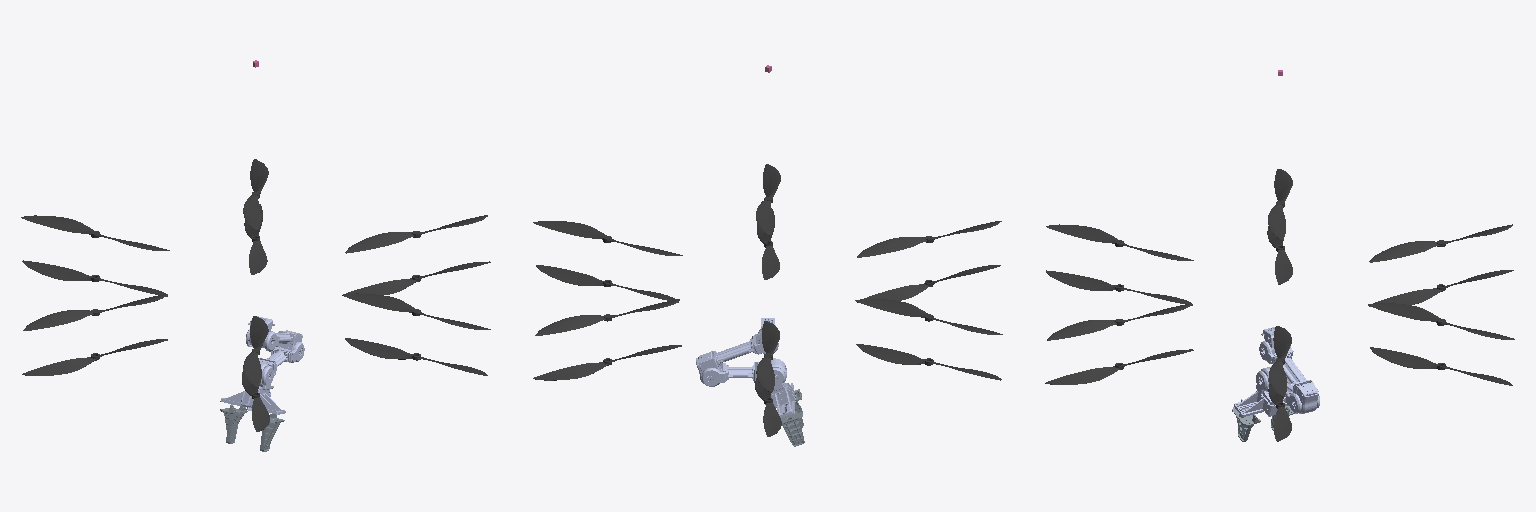
robot.urdf — simulator:
<?xml version="1.0"?>
<!-- This URDF was automatically created by SolidWorks to URDF Exporter! Originally created by [author] ([email redacted]) 
     Commit Version: 1.6.0-4-g7f85cfe  Build Version: 1.6.7995.38578
     For more information, please see http://wiki.ros.org/sw_urdf_exporter -->
<robot name="simulator">

  <link name="world"/>
  
  <joint name="virtual_joint" type="fixed">
    <child link="base_link"/>
    <parent link="world"/>
  </joint>

  <link
    name="base_link">
    <inertial>
      <origin
        xyz="-0.00110306076075581 -1.75841246845748E-05 -3.96711644723413E-06"
        rpy="0 0 0" />
      <mass
        value="4.68848447603709" />
      <inertia
        ixx="0.430475145644522"
        ixy="-1.79316182511057E-05"
        ixz="-1.23322016653127E-06"
        iyy="0.430587050486874"
        iyz="4.52382428687083E-07"
        izz="0.592651276900184" />
    </inertial>
    <visual>
      <origin
        xyz="0 0 0"
        rpy="0 0 0" />
      <geometry>
        <mesh
          filename="package://simulator/meshes/base_link.STL" />
      </geometry>
      <material
        name="">
        <color
          rgba="0.752941176470588 0.752941176470588 0.752941176470588 1" />
      </material>
    </visual>
    <collision>
      <origin
        xyz="0 0 0"
        rpy="0 0 0" />
      <geometry>
        <mesh
          filename="package://simulator/meshes/base_link.STL" />
      </geometry>
    </collision>
  </link>
  <link
    name="prop_1_link">
    <inertial>
      <origin
        xyz="2.47996068125644E-13 3.41268162852742E-08 2.2877255645426E-12"
        rpy="0 0 0" />
      <mass
        value="0.0279209337587258" />
      <inertia
        ixx="0.000201162215959647"
        ixy="-1.5059378448931E-17"
        ixz="-3.5479401191167E-05"
        iyy="0.000209948517866518"
        iyz="-9.30869790117904E-17"
        izz="9.10135660869097E-06" />
    </inertial>
    <visual>
      <origin
        xyz="0 0 0"
        rpy="0 0 0" />
      <geometry>
        <mesh
          filename="package://simulator/meshes/prop_1_link.STL" />
      </geometry>
      <material
        name="">
        <color
          rgba="0.294117647058824 0.294117647058824 0.294117647058824 1" />
      </material>
    </visual>
    <collision>
      <origin
        xyz="0 0 0"
        rpy="0 0 0" />
      <geometry>
        <mesh
          filename="package://simulator/meshes/prop_1_link.STL" />
      </geometry>
    </collision>
  </link>
  <joint
    name="prop_1_joint"
    type="continuous">
    <origin
      xyz="0.181350000000243 -0.314107413952491 0"
      rpy="1.5707963267949 0 -2.80424202552252" />
    <parent
      link="base_link" />
    <child
      link="prop_1_link" />
    <axis
      xyz="0 1 0" />
    <limit
      lower="0"
      upper="0"
      effort="0"
      velocity="0" />
  </joint>
  <link
    name="prop_2_link">
    <inertial>
      <origin
        xyz="-4.91190421669785E-13 -8.46650185456313E-13 -1.36557432028894E-12"
        rpy="0 0 0" />
      <mass
        value="0.0279204568460125" />
      <inertia
        ixx="0.000202041619412603"
        ixy="-1.6765922883602E-17"
        ixz="-3.37223454388012E-05"
        iyy="0.000209943475946723"
        iyz="-7.27420925847124E-17"
        izz="8.21690270950501E-06" />
    </inertial>
    <visual>
      <origin
        xyz="0 0 0"
        rpy="0 0 0" />
      <geometry>
        <mesh
          filename="package://simulator/meshes/prop_2_link.STL" />
      </geometry>
      <material
        name="">
        <color
          rgba="0.294117647058824 0.294117647058824 0.294117647058824 1" />
      </material>
    </visual>
    <collision>
      <origin
        xyz="0 0 0"
        rpy="0 0 0" />
      <geometry>
        <mesh
          filename="package://simulator/meshes/prop_2_link.STL" />
      </geometry>
    </collision>
  </link>
  <joint
    name="prop_2_joint"
    type="continuous">
    <origin
      xyz="0.362700000000011 0 0"
      rpy="1.5707963267949 0 -1.73577621414184" />
    <parent
      link="base_link" />
    <child
      link="prop_2_link" />
    <axis
      xyz="0 1 0" />
    <limit
      lower="0"
      upper="0"
      effort="0"
      velocity="0" />
  </joint>
  <link
    name="prop_3_link">
    <inertial>
      <origin
        xyz="-2.52770027131533E-13 -3.26235502648694E-08 -3.15525383598469E-13"
        rpy="0 0 0" />
      <mass
        value="0.0279209345793859" />
      <inertia
        ixx="0.000201383717068649"
        ixy="1.22165744202057E-17"
        ixz="-3.5054722379838E-05"
        iyy="0.000209948517974453"
        iyz="1.02203769018779E-17"
        izz="8.87985560643182E-06" />
    </inertial>
    <visual>
      <origin
        xyz="0 0 0"
        rpy="0 0 0" />
      <geometry>
        <mesh
          filename="package://simulator/meshes/prop_3_link.STL" />
      </geometry>
      <material
        name="">
        <color
          rgba="0.294117647058824 0.294117647058824 0.294117647058824 1" />
      </material>
    </visual>
    <collision>
      <origin
        xyz="0 0 0"
        rpy="0 0 0" />
      <geometry>
        <mesh
          filename="package://simulator/meshes/prop_3_link.STL" />
      </geometry>
    </collision>
  </link>
  <joint
    name="Prop_3_joint"
    type="continuous">
    <origin
      xyz="0.181349999999764 0.314107413952759 0"
      rpy="1.5707963267949 0 2.42964177354604" />
    <parent
      link="base_link" />
    <child
      link="prop_3_link" />
    <axis
      xyz="0 1 0" />
    <limit
      lower="0"
      upper="0"
      effort="0"
      velocity="0" />
  </joint>
  <link
    name="prop_4_link">
    <inertial>
      <origin
        xyz="1.983690989249E-13 3.26215846655616E-08 1.82182047225865E-12"
        rpy="0 0 0" />
      <mass
        value="0.0279209345803512" />
      <inertia
        ixx="0.000200179018418646"
        ixy="6.52149189229152E-17"
        ixz="-3.72576312509752E-05"
        iyy="0.000209948517984384"
        iyz="5.22243367121589E-17"
        izz="1.00845542663739E-05" />
    </inertial>
    <visual>
      <origin
        xyz="0 0 0"
        rpy="0 0 0" />
      <geometry>
        <mesh
          filename="package://simulator/meshes/prop_4_link.STL" />
      </geometry>
      <material
        name="">
        <color
          rgba="0.294117647058824 0.294117647058824 0.294117647058824 1" />
      </material>
    </visual>
    <collision>
      <origin
        xyz="0 0 0"
        rpy="0 0 0" />
      <geometry>
        <mesh
          filename="package://simulator/meshes/prop_4_link.STL" />
      </geometry>
    </collision>
  </link>
  <joint
    name="prop_4_joint"
    type="continuous">
    <origin
      xyz="-0.181350000000244 0.314107413952479 0"
      rpy="1.5707963267949 0 -2.78817405638384" />
    <parent
      link="base_link" />
    <child
      link="prop_4_link" />
    <axis
      xyz="0 1 0" />
    <limit
      lower="0"
      upper="0"
      effort="0"
      velocity="0" />
  </joint>
  <link
    name="prop_5_link">
    <inertial>
      <origin
        xyz="3.66928709638614E-14 -1.88129293038066E-08 -5.06594766136459E-13"
        rpy="0 0 0" />
      <mass
        value="0.0279204664551623" />
      <inertia
        ixx="0.00020003244164034"
        ixy="3.92299042138082E-18"
        ixz="-3.75010706246379E-05"
        iyy="0.000209943793870452"
        iyz="7.48241521753871E-18"
        izz="1.02263984417856E-05" />
    </inertial>
    <visual>
      <origin
        xyz="0 0 0"
        rpy="0 0 0" />
      <geometry>
        <mesh
          filename="package://simulator/meshes/prop_5_link.STL" />
      </geometry>
      <material
        name="">
        <color
          rgba="0.294117647058824 0.294117647058824 0.294117647058824 1" />
      </material>
    </visual>
    <collision>
      <origin
        xyz="0 0 0"
        rpy="0 0 0" />
      <geometry>
        <mesh
          filename="package://simulator/meshes/prop_5_link.STL" />
      </geometry>
    </collision>
  </link>
  <joint
    name="prop_5_joint"
    type="continuous">
    <origin
      xyz="-0.362699999999998 0 0"
      rpy="1.5707963267949 0 1.38857142747957" />
    <parent
      link="base_link" />
    <child
      link="prop_5_link" />
    <axis
      xyz="0 1 0" />
    <limit
      lower="0"
      upper="0"
      effort="0"
      velocity="0" />
  </joint>
  <link
    name="prop_6_link">
    <inertial>
      <origin
        xyz="-1.40915057400548E-13 -1.45340183492525E-08 -2.6326163471424E-12"
        rpy="0 0 0" />
      <mass
        value="0.0279209237247354" />
      <inertia
        ixx="0.000198410642206663"
        ixy="-1.25767832104697E-17"
        ixz="-4.00962993381281E-05"
        iyy="0.00020994856295244"
        iyz="6.36819861126385E-17"
        izz="1.18529751758187E-05" />
    </inertial>
    <visual>
      <origin
        xyz="0 0 0"
        rpy="0 0 0" />
      <geometry>
        <mesh
          filename="package://simulator/meshes/prop_6_link.STL" />
      </geometry>
      <material
        name="">
        <color
          rgba="0.294117647058824 0.294117647058824 0.294117647058824 1" />
      </material>
    </visual>
    <collision>
      <origin
        xyz="0 0 0"
        rpy="0 0 0" />
      <geometry>
        <mesh
          filename="package://simulator/meshes/prop_6_link.STL" />
      </geometry>
    </collision>
  </link>
  <joint
    name="prop_6_joint"
    type="continuous">
    <origin
      xyz="-0.181349999999753 -0.314107413952772 0"
      rpy="1.5707963267949 0 2.43358089892909" />
    <parent
      link="base_link" />
    <child
      link="prop_6_link" />
    <axis
      xyz="0 1 0" />
  </joint>
  <link
    name="arm_1_link">
    <inertial>
      <origin
        xyz="-0.000277779744851368 -0.0258931805795906 -0.000458833266730171"
        rpy="0 0 0" />
      <mass
        value="0.0466133022968278" />
      <inertia
        ixx="1.20039983846615E-05"
        ixy="1.03121576615339E-08"
        ixz="-8.26981177401855E-07"
        iyy="7.48803299231645E-06"
        iyz="1.70344296308232E-08"
        izz="1.1138650620346E-05" />
    </inertial>
    <visual>
      <origin
        xyz="0 0 0"
        rpy="0 0 0" />
      <geometry>
        <mesh
          filename="package://simulator/meshes/arm_1_link.STL" />
      </geometry>
      <material
        name="">
        <color
          rgba="0.792156862745098 0.819607843137255 0.933333333333333 1" />
      </material>
    </visual>
    <collision>
      <origin
        xyz="0 0 0"
        rpy="0 0 0" />
      <geometry>
        <mesh
          filename="package://simulator/meshes/arm_1_link.STL" />
      </geometry>
    </collision>
  </link>
  <joint
    name="arm_1_joint"
    type="revolute">
    <origin
      xyz="0.00640042621662216 -0.0101611186614582 -0.05270000000001"
      rpy="1.5707963267949 0 0" />
    <parent
      link="base_link" />
    <child
      link="arm_1_link" />
    <axis
      xyz="0 1 0" />
    <limit
      lower="0"
      upper="0"
      effort="0"
      velocity="0" />
  </joint>
  <link
    name="arm_2_link">
    <inertial>
      <origin
        xyz="0.0872965795343047 0.0258178427950186 -0.0443985785254201"
        rpy="0 0 0" />
      <mass
        value="0.0881360535329319" />
      <inertia
        ixx="2.03889559871351E-05"
        ixy="1.08647089358152E-08"
        ixz="1.61399453784491E-07"
        iyy="2.8038688798677E-05"
        iyz="1.02875642093698E-08"
        izz="2.41553284315105E-05" />
    </inertial>
    <visual>
      <origin
        xyz="0 0 0"
        rpy="0 0 0" />
      <geometry>
        <mesh
          filename="package://simulator/meshes/arm_2_link.STL" />
      </geometry>
      <material
        name="">
        <color
          rgba="0.792156862745098 0.819607843137255 0.933333333333333 1" />
      </material>
    </visual>
    <collision>
      <origin
        xyz="0 0 0"
        rpy="0 0 0" />
      <geometry>
        <mesh
          filename="package://simulator/meshes/arm_2_link.STL" />
      </geometry>
    </collision>
  </link>
  <joint
    name="arm_2_joint"
    type="revolute">
    <origin
      xyz="0.013206 -0.0388 0.021814"
      rpy="-1.5708 0.54438 0" />
    <parent
      link="arm_1_link" />
    <child
      link="arm_2_link" />
    <axis
      xyz="0 -1 0" />
    <limit
      lower="0"
      upper="0"
      effort="0"
      velocity="0" />
  </joint>
  <link
    name="arm_3_link">
    <inertial>
      <origin
        xyz="-0.0884957691467715 0.0251944702774581 0.00109148122244698"
        rpy="0 0 0" />
      <mass
        value="0.0841267673801512" />
      <inertia
        ixx="1.54134634493973E-05"
        ixy="1.51426288997905E-08"
        ixz="-6.99845650487514E-07"
        iyy="2.30716087505895E-05"
        iyz="-3.87887886135734E-09"
        izz="2.37159974327882E-05" />
    </inertial>
    <visual>
      <origin
        xyz="0 0 0"
        rpy="0 0 0" />
      <geometry>
        <mesh
          filename="package://simulator/meshes/arm_3_link.STL" />
      </geometry>
      <material
        name="">
        <color
          rgba="0.792156862745098 0.819607843137255 0.933333333333333 1" />
      </material>
    </visual>
    <collision>
      <origin
        xyz="0 0 0"
        rpy="0 0 0" />
      <geometry>
        <mesh
          filename="package://simulator/meshes/arm_3_link.STL" />
      </geometry>
    </collision>
  </link>
  <joint
    name="arm_3_joint"
    type="revolute">
    <origin
      xyz="0.11089 0.051 -0.068288"
      rpy="-3.1416 0 0" />
    <parent
      link="arm_2_link" />
    <child
      link="arm_3_link" />
    <axis
      xyz="0 -1 0" />
    <limit
      lower="0"
      upper="0"
      effort="0"
      velocity="0" />
  </joint>
  <link
    name="arm_4_link">
    <inertial>
      <origin
        xyz="-0.007441 0.025511 0.045081"
        rpy="0 0 0" />
      <mass
        value="0.093795" />
      <inertia
        ixx="2.2174E-05"
        ixy="-5.361E-08"
        ixz="-2.6295E-06"
        iyy="2.6687E-05"
        iyz="-1.5961E-08"
        izz="3.1188E-05" />
    </inertial>
    <visual>
      <origin
        xyz="0 0 0"
        rpy="0 0 0" />
      <geometry>
        <mesh
          filename="package://simulator/meshes/arm_4_link.STL" />
      </geometry>
      <material
        name="">
        <color
          rgba="0.79216 0.81961 0.93333 1" />
      </material>
    </visual>
    <collision>
      <origin
        xyz="0 0 0"
        rpy="0 0 0" />
      <geometry>
        <mesh
          filename="package://simulator/meshes/arm_4_link.STL" />
      </geometry>
    </collision>
  </link>
  <joint
    name="arm_4_joint"
    type="revolute">
    <origin
      xyz="-0.124 0 0.0010588"
      rpy="0 0 0" />
    <parent
      link="arm_3_link" />
    <child
      link="arm_4_link" />
    <axis
      xyz="0 -1 0" />
    <limit
      lower="0"
      upper="0"
      effort="0"
      velocity="0" />
  </joint>
  <link
    name="gripper_left_link">
    <inertial>
      <origin
        xyz="-0.0085159 -0.038248 0.025138"
        rpy="0 0 0" />
      <mass
        value="0.01653" />
      <inertia
        ixx="6.782E-06"
        ixy="1.3549E-07"
        ixz="9.1033E-07"
        iyy="9.5271E-06"
        iyz="-1.3399E-07"
        izz="4.3674E-06" />
    </inertial>
    <visual>
      <origin
        xyz="0 0 0"
        rpy="0 0 0" />
      <geometry>
        <mesh
          filename="package://simulator/meshes/gripper_left_link.STL" />
      </geometry>
      <material
        name="">
        <color
          rgba="0.60392 0.64706 0.68627 1" />
      </material>
    </visual>
    <collision>
      <origin
        xyz="0 0 0"
        rpy="0 0 0" />
      <geometry>
        <mesh
          filename="package://simulator/meshes/gripper_left_link.STL" />
      </geometry>
    </collision>
  </link>
  <joint
    name="gripper_left_joint"
    type="prismatic">
    <origin
      xyz="-0.022963 0.0255 0.06824"
      rpy="0.00085876 0.00052289 -0.0025515" />
    <parent
      link="arm_4_link" />
    <child
      link="gripper_left_link" />
    <axis
      xyz="0 1 0" />
    <limit
      lower="0"
      upper="0"
      effort="0"
      velocity="0" />
  </joint>
  <link
    name="gripper_right_link">
    <inertial>
      <origin
        xyz="-0.0084777 0.041125 0.025151"
        rpy="0 0 0" />
      <mass
        value="0.01653" />
      <inertia
        ixx="6.7753E-06"
        ixy="-5.4166E-08"
        ixz="9.1471E-07"
        iyy="9.5302E-06"
        iyz="1.6154E-07"
        izz="4.3712E-06" />
    </inertial>
    <visual>
      <origin
        xyz="0 0 0"
        rpy="0 0 0" />
      <geometry>
        <mesh
          filename="package://simulator/meshes/gripper_right_link.STL" />
      </geometry>
      <material
        name="">
        <color
          rgba="0.60392 0.64706 0.68627 1" />
      </material>
    </visual>
    <collision>
      <origin
        xyz="0 0 0"
        rpy="0 0 0" />
      <geometry>
        <mesh
          filename="package://simulator/meshes/gripper_right_link.STL" />
      </geometry>
    </collision>
  </link>
  <joint
    name="gripper_right_joint"
    type="prismatic">
    <origin
      xyz="-0.022963 0.0255 0.06824"
      rpy="0.00085876 0.00052289 -0.0025515" />
    <parent
      link="arm_4_link" />
    <child
      link="gripper_right_link" />
    <axis
      xyz="0 1 0" />
    <limit
      lower="0"
      upper="0"
      effort="0"
      velocity="0" />
  </joint>

  <joint name="camera_joint" type="fixed">
    <axis xyz="0 0 0" />
    <origin xyz="0 0 0.5" rpy="0 0 0"/>
    <parent link="base_link"/>
    <child link="camera_link"/>
  </joint>

  <!-- Camera -->
  <link name="camera_link">
    <collision>
      <origin xyz="0 0 0" rpy="0 0 0"/>
      <geometry>
        <box size="0.01 0.01 0.01"/>
      </geometry>
    </collision>

    <visual>
      <origin xyz="0 0 0" rpy="0 0 0"/>
      <geometry>
        <box size="0.01 0.01 0.01"/>
      </geometry>
      <material name="red"/>
    </visual>

    <inertial>
      <mass value="1e-5" />
      <origin xyz="0 0 0" rpy="0 0 0"/>
      <inertia ixx="1e-6" ixy="0" ixz="0" iyy="1e-6" iyz="0" izz="1e-6" />
    </inertial>
  </link>

  <gazebo reference="camera_link">
    <sensor type="depth" name="camera">
      <update_rate>30.0</update_rate>
      <camera>
        <horizontal_fov>1.3962634</horizontal_fov>
        <image>
          <width>640</width>
          <height>480</height>
          <format>R8G8B8</format>
        </image>
        <clip>
          <near>0.02</near>
          <far>300</far>
        </clip>
      </camera>
      <plugin name="camera_controller" filename="libgazebo_ros_camera.so">
        <alwaysOn>true</alwaysOn>
        <updateRate>0.0</updateRate>
        <cameraName>camera</cameraName>
        <imageTopicName>/camera/rgb/image_raw</imageTopicName>
        <cameraInfoTopicName>/camera/rgb/camera_info</cameraInfoTopicName>
        <depthImageTopicName>/camera/depth/image_raw</depthImageTopicName>
        <depthImageCameraInfoTopicName>/camera/depth/camera_info</depthImageCameraInfoTopicName>
        <frameName>camera_link</frameName>
        <hackBaseline>0.07</hackBaseline>
        <distortionK1>0.0</distortionK1>
        <distortionK2>0.0</distortionK2>
        <distortionK3>0.0</distortionK3>
        <distortionT1>0.0</distortionT1>
        <distortionT2>0.0</distortionT2>
        <CxPrime>0</CxPrime>
        <Cx>318.643040</Cx>
        <Cy>255.313989</Cy>
        <focalLength>516.469215</focalLength>
      </plugin>
    </sensor>
  </gazebo>
</robot>

--- Render facts (derived) ---
Views: 3 orthographic renders of the robot side by side, from view 1: azimuth 30°, elevation 25°; view 2: azimuth 150°, elevation 25°; view 3: azimuth 270°, elevation 25°.
Robot: simulator — 15 links, 14 joints (4 revolute, 6 continuous, 2 prismatic, 2 fixed); root link world; default pose: every joint at zero.
Visible links, largest first — view 1: prop_5_link, prop_1_link, prop_4_link, prop_2_link, prop_3_link, prop_6_link, arm_4_link, arm_3_link, arm_2_link, gripper_left_link; view 2: prop_3_link, prop_5_link, prop_2_link, prop_6_link, prop_4_link, prop_1_link, arm_2_link, arm_3_link, arm_4_link, gripper_left_link; view 3: prop_3_link, prop_1_link, prop_6_link, prop_4_link, prop_2_link, prop_5_link, arm_2_link, arm_4_link.
Boxes of the visible links, box(x1,y1,x2,y2) form: prop_5_link: box(22, 294, 167, 375); prop_1_link: box(343, 293, 490, 375); prop_4_link: box(21, 215, 169, 296); prop_2_link: box(342, 215, 490, 295); prop_3_link: box(243, 159, 268, 274); prop_6_link: box(242, 316, 269, 431); arm_4_link: box(220, 366, 285, 414); arm_3_link: box(259, 342, 304, 386); arm_2_link: box(246, 329, 302, 362); gripper_left_link: box(220, 404, 247, 443); prop_3_link: box(533, 299, 681, 380); prop_5_link: box(855, 299, 1002, 380); prop_2_link: box(533, 221, 682, 302); prop_6_link: box(857, 221, 1001, 302); prop_4_link: box(755, 321, 781, 436); prop_1_link: box(756, 164, 780, 279); arm_2_link: box(696, 329, 778, 383); arm_3_link: box(701, 359, 786, 386); arm_4_link: box(765, 358, 795, 417); gripper_left_link: box(781, 405, 804, 446); prop_3_link: box(1368, 303, 1514, 385); prop_1_link: box(1045, 303, 1193, 384); prop_6_link: box(1046, 224, 1193, 305); prop_4_link: box(1369, 224, 1513, 306); prop_2_link: box(1268, 326, 1291, 441); prop_5_link: box(1267, 169, 1292, 284); arm_2_link: box(1259, 341, 1318, 413); arm_4_link: box(1234, 371, 1288, 416).
Bounding box of the posed robot: 1.05 × 0.9199 × 0.8075 m (x, y, z).
Meshes: 13 distinct files referenced, 12 mesh visuals loaded (12 binary STL); not drawn: 1 (reference not matched to a file when rendering).